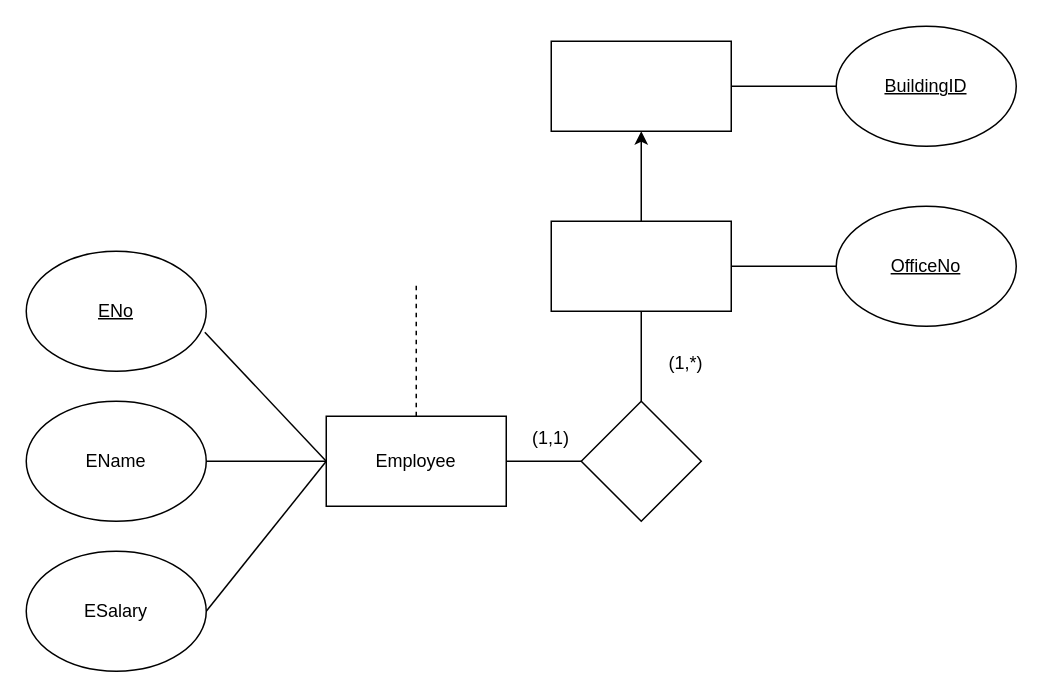
This 1043x698 diagram has some shape labels left out. Here are the shapes that lost their labels. From the top down, the centre of each, then its label:
At pixel 640 85: "Building".
At pixel 640 265: "Office".
At pixel 640 460: "sits in".
